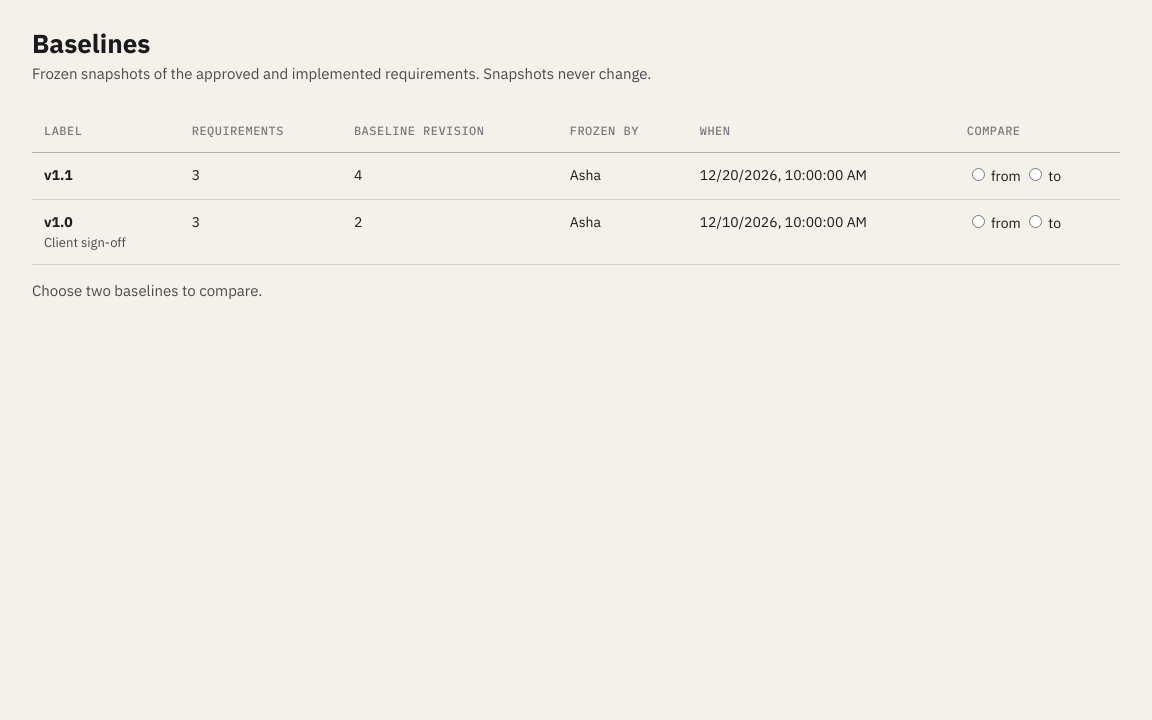
it: Baselines (US-40) › compares v1.1 with v1.0: added, changed with a diff, removed
Check: the text "Client sign-off" is shown, box [44,234,126,250]
Click the radio button labelled "from" in the row of "v1.0" at (978, 221), box [972,214,985,228]
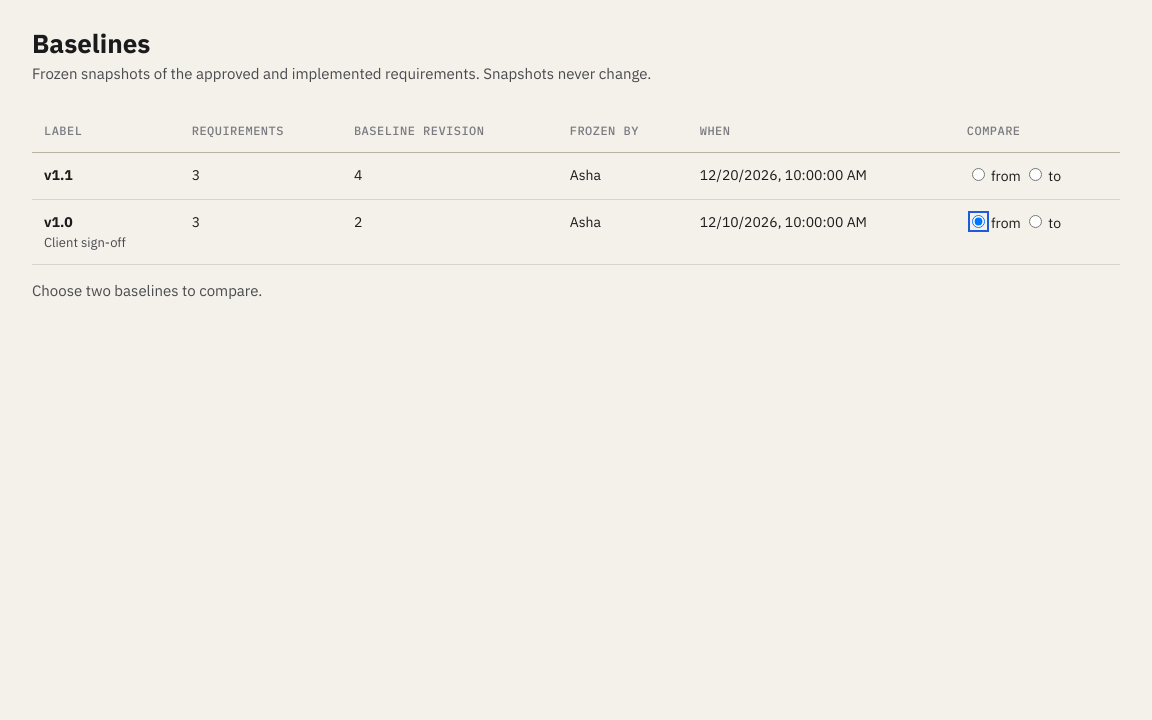
Click the radio button labelled "to" in the row of "v1.1" at (1036, 174), box [1029,168,1042,180]
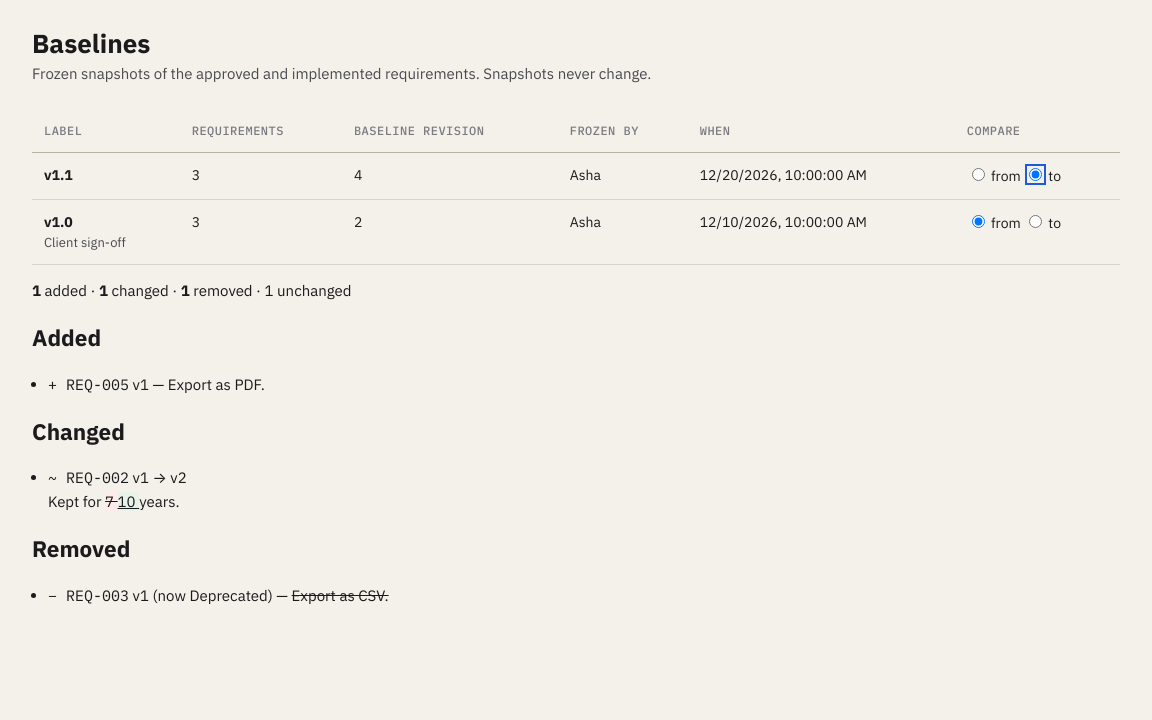
Check: the element showing "1 added · 1 changed · 1 removed · 1 unchanged" is shown, box [32,281,352,300]
Check: the list item "− REQ-003 v1 (now Deprecated) — Export as CSV." is shown, box [48,586,389,605]
